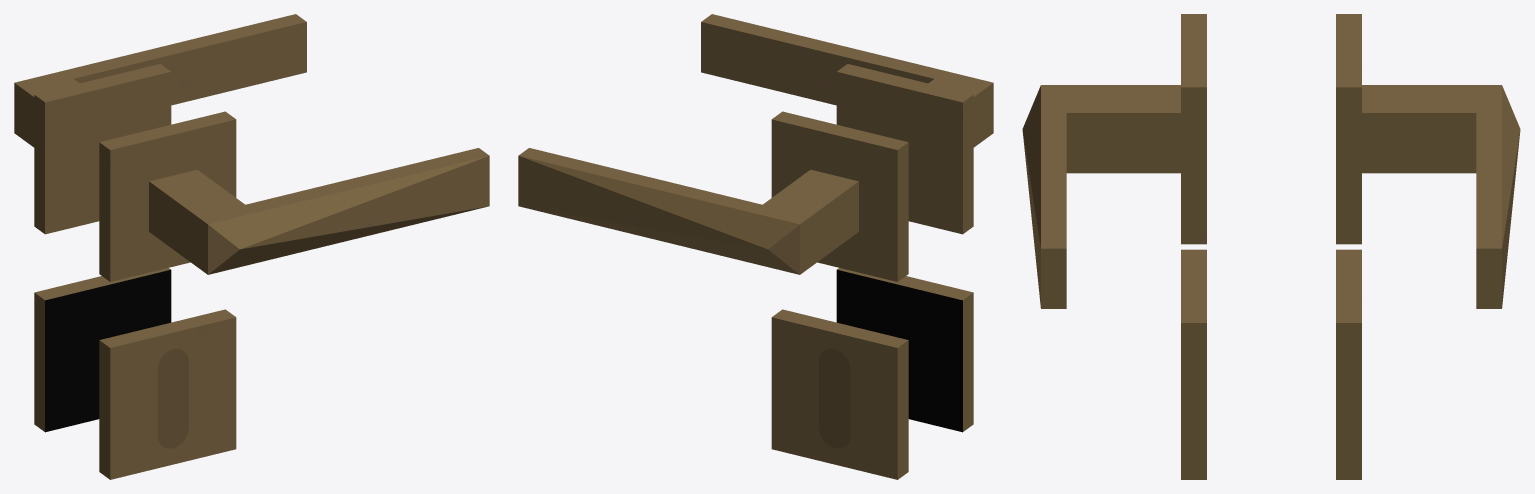
File: Maçaneta.fbx
The picture shows the model from 3 angles, left to right: view 1: azimuth 30°, elevation 25°; view 2: azimuth 150°, elevation 25°; view 3: azimuth 270°, elevation 25°; orthographic projection. The views are drawn at different scales.
Visible parts, largest first — view 1: fechadura.002, fechadura.001; view 2: fechadura.002, fechadura.001; view 3: fechadura.001, fechadura.002.
Part boxes in pixels (x1,y1,x2,y2): fechadura.002: (34, 64, 236, 479); fechadura.001: (14, 14, 489, 274); fechadura.002: (771, 64, 973, 479); fechadura.001: (518, 14, 993, 274); fechadura.001: (1022, 85, 1520, 308); fechadura.002: (1181, 14, 1361, 479).
Bounding box in the file's own units: 13.45 × 13.23 × 15.2.
